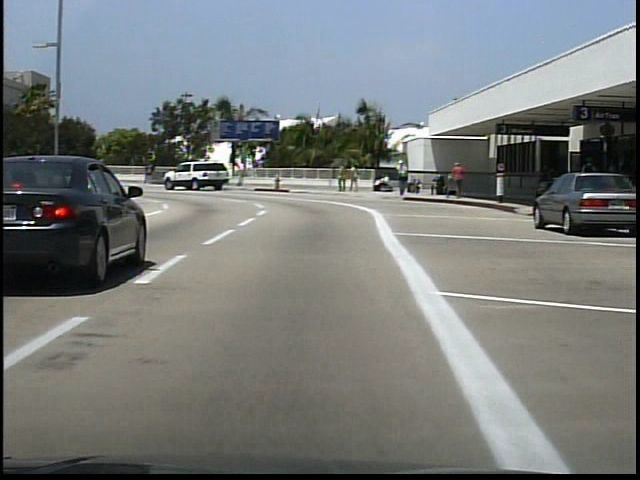person: (577, 153, 601, 213), (453, 160, 469, 198), (395, 158, 409, 201), (338, 163, 350, 195), (350, 162, 361, 196)
